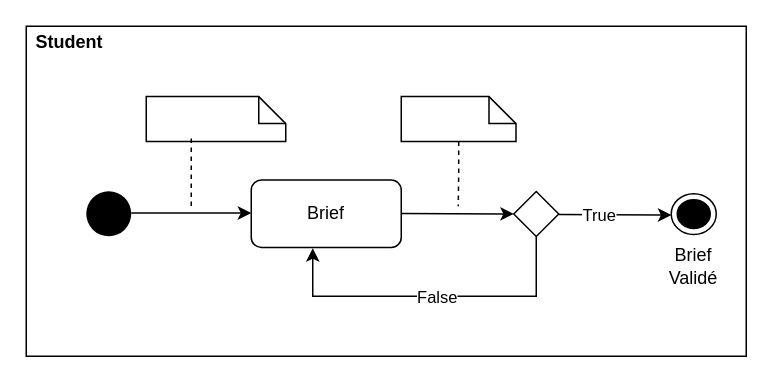
Some shapes in this 773 by 383 pixel diagram are drawn without their labels. Each missing label, with the centre of its shape:
realization: (458,118)
Start a new brief: (215,118)
